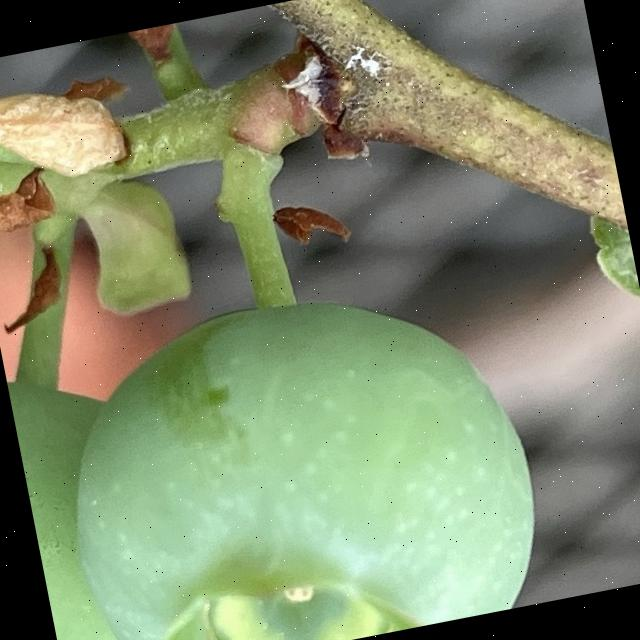Blueberries: (37, 258, 559, 640), (4, 348, 193, 640)
